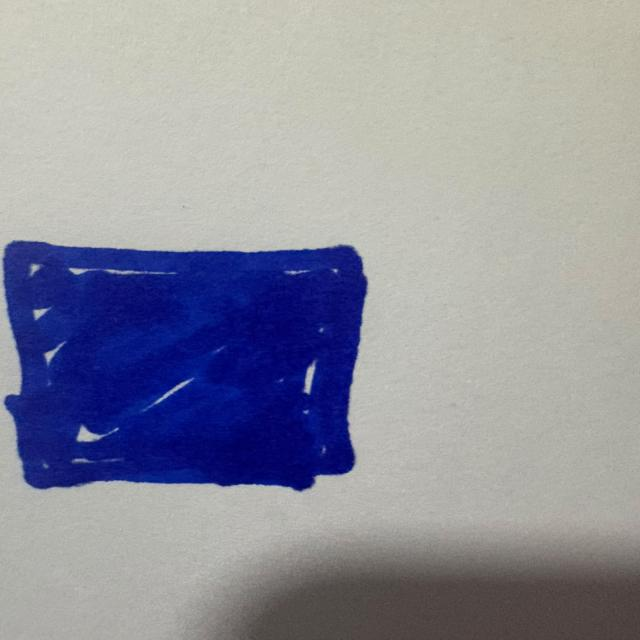Square: (4, 241, 367, 491)
